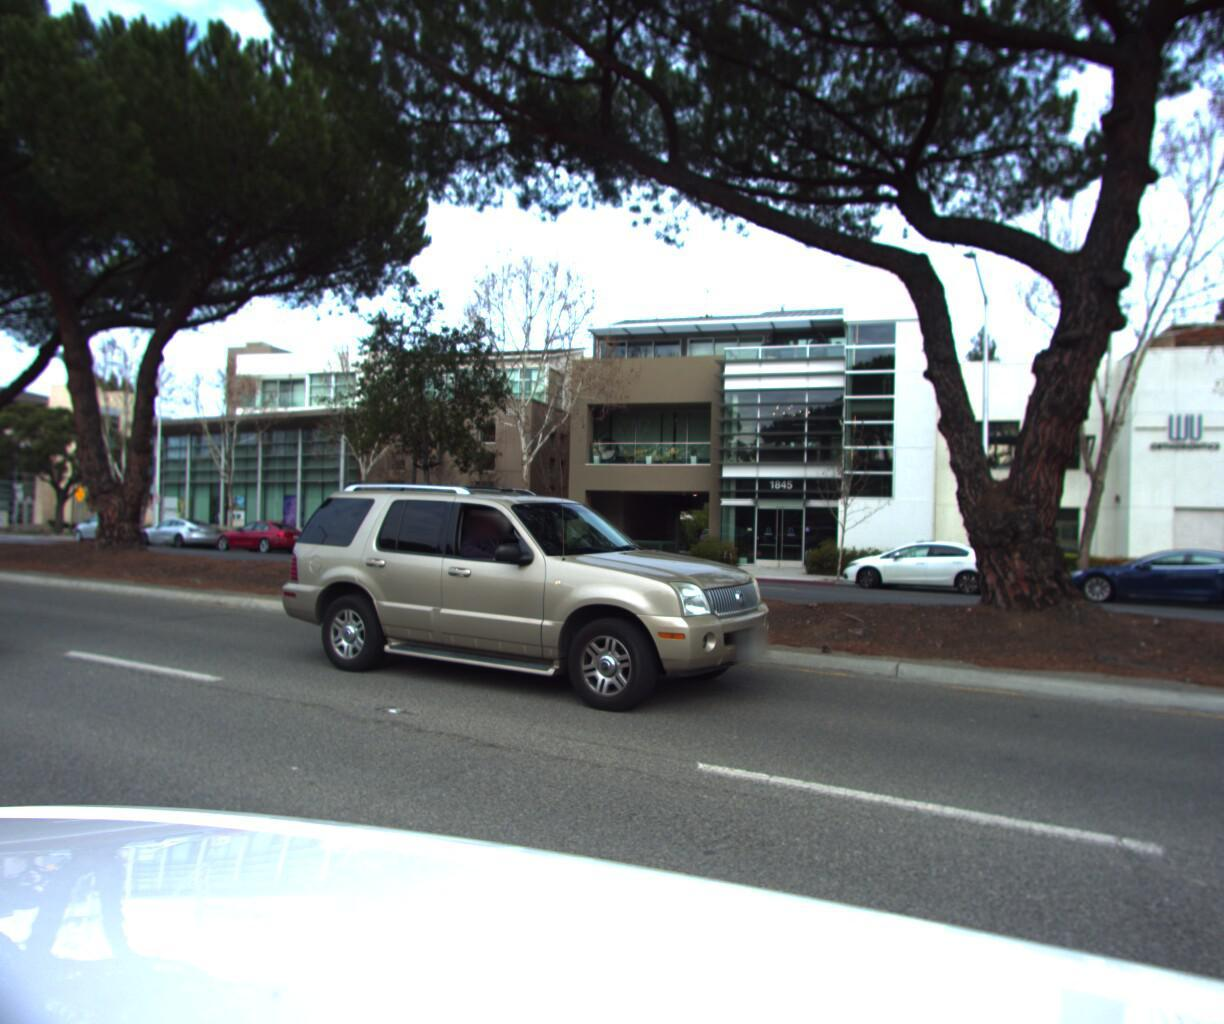car: (276, 472, 788, 723), (1043, 539, 1224, 614), (827, 535, 1018, 600), (208, 521, 315, 557), (132, 519, 226, 554), (63, 515, 150, 549)
